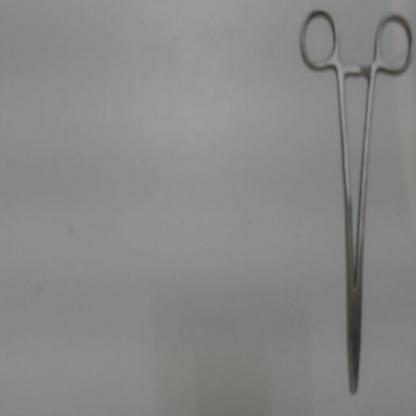8 Mayo Needle Holder: (293, 5, 415, 406)
